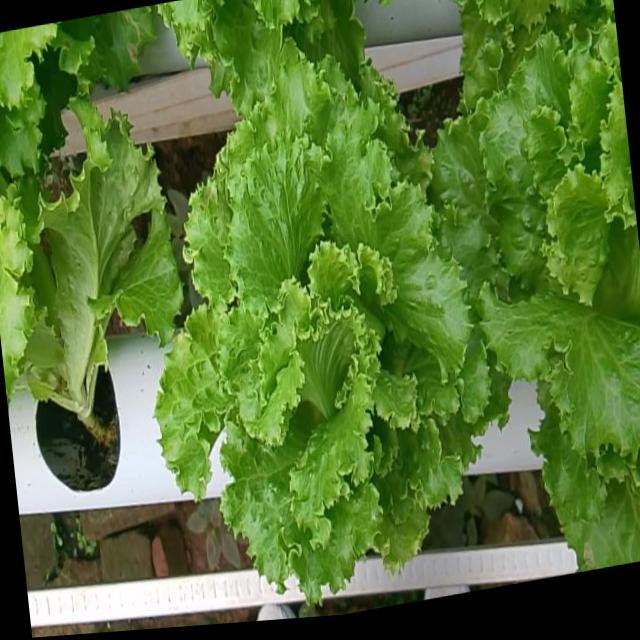Mature: (149, 57, 487, 600), (429, 36, 640, 469)
